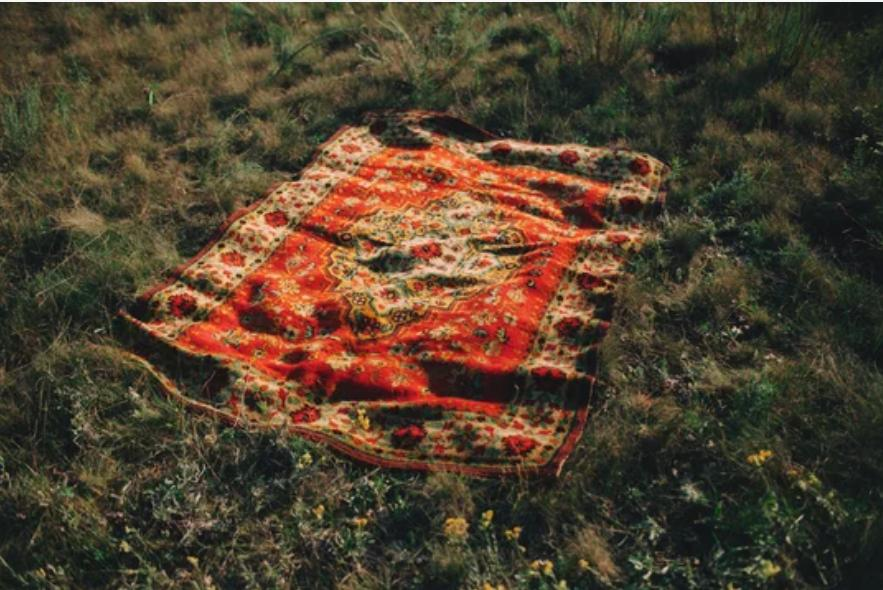carpet: (105, 61, 672, 508)
